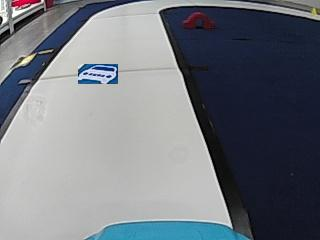bridge: (183, 11, 214, 28)
